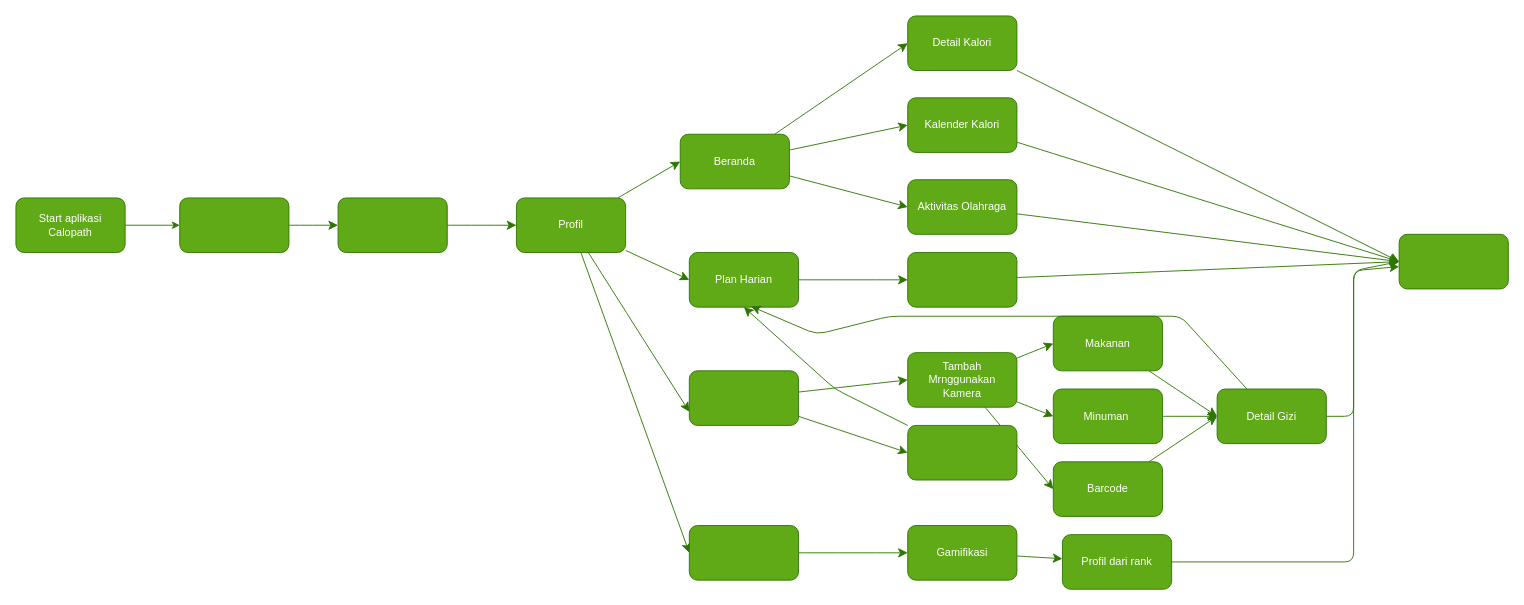
Image size: 1524x605. Some labels were removed from this diagram. Here are the shapes that lost their labels. From the top down, the centre of each, then its label:
At point (234, 225): "Login".
At point (392, 225): "Identifikasi Pengguna".
At point (962, 279): "Detail Plan Harian".
At point (1453, 261): "Selesai dan kembali ke beranda".
At point (743, 397): "Lensa Kalori".
At point (962, 452): "Inout Manual".
At point (743, 552): "Tantagan Harian".
